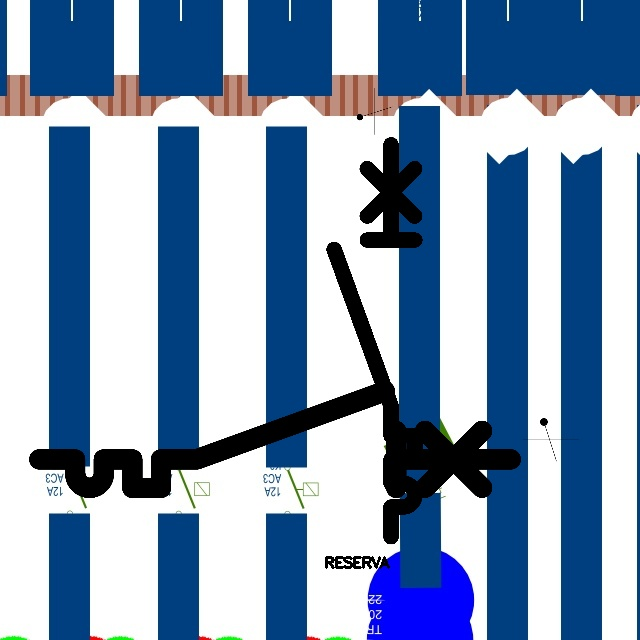interruptor_termomagnetico: (27, 379, 523, 500), (324, 134, 425, 546)
